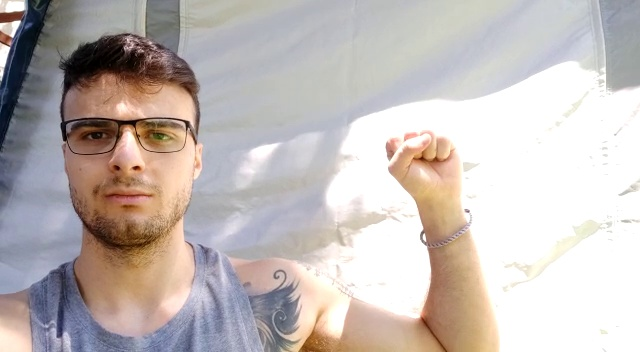Fist: (384, 128, 462, 200)
